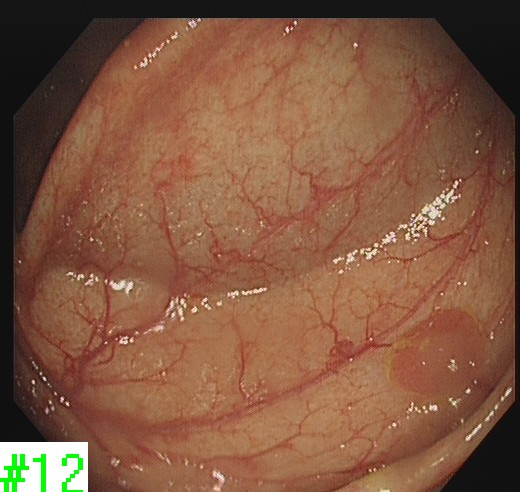adenoma: (385, 306, 492, 400)
